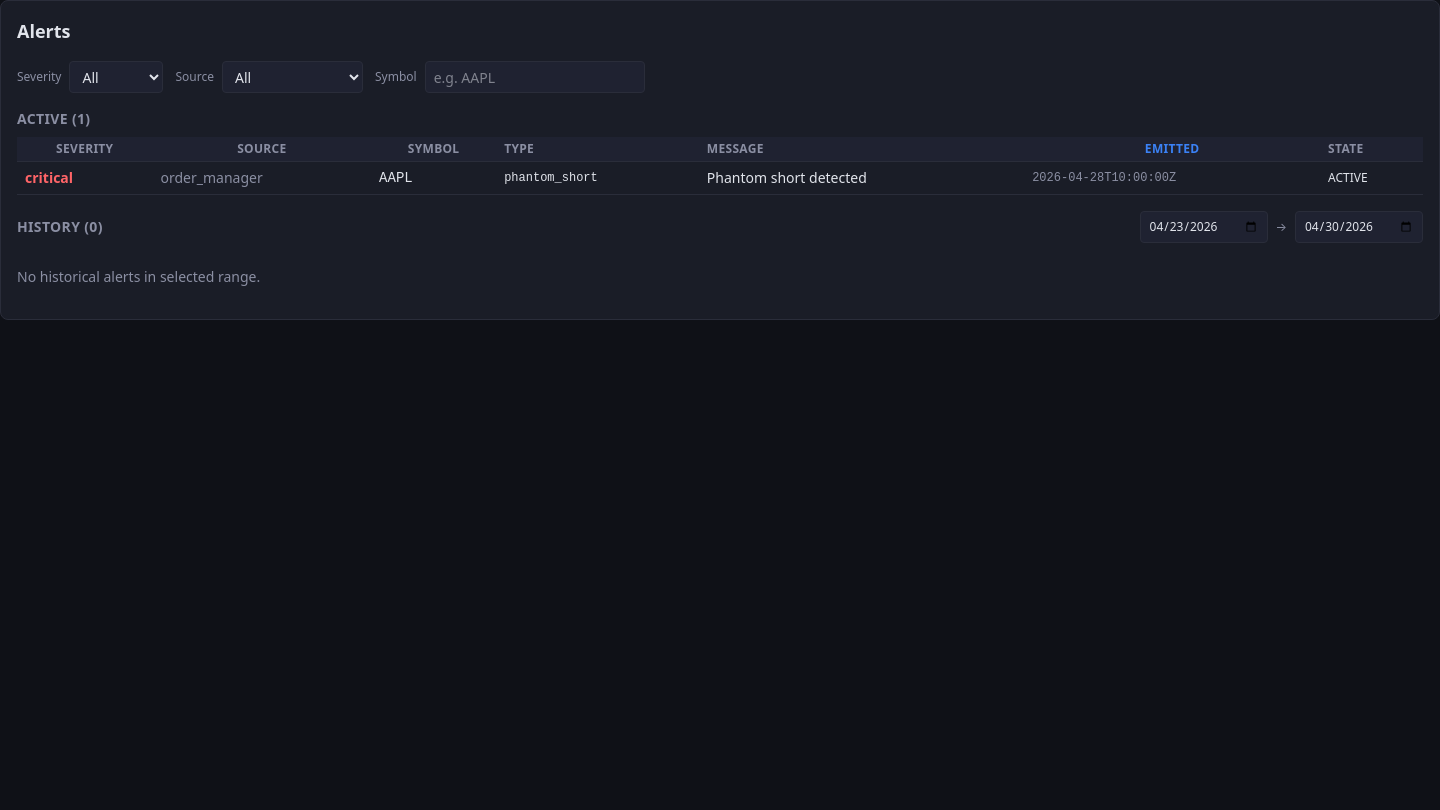
Test: AlertsPanel › closes the detail view when Close is clicked
The image size is (1440, 810).
Click the button with test id "alerts-table-active-row-close-me".
click(720, 178)  # box [17,162,1423,194]
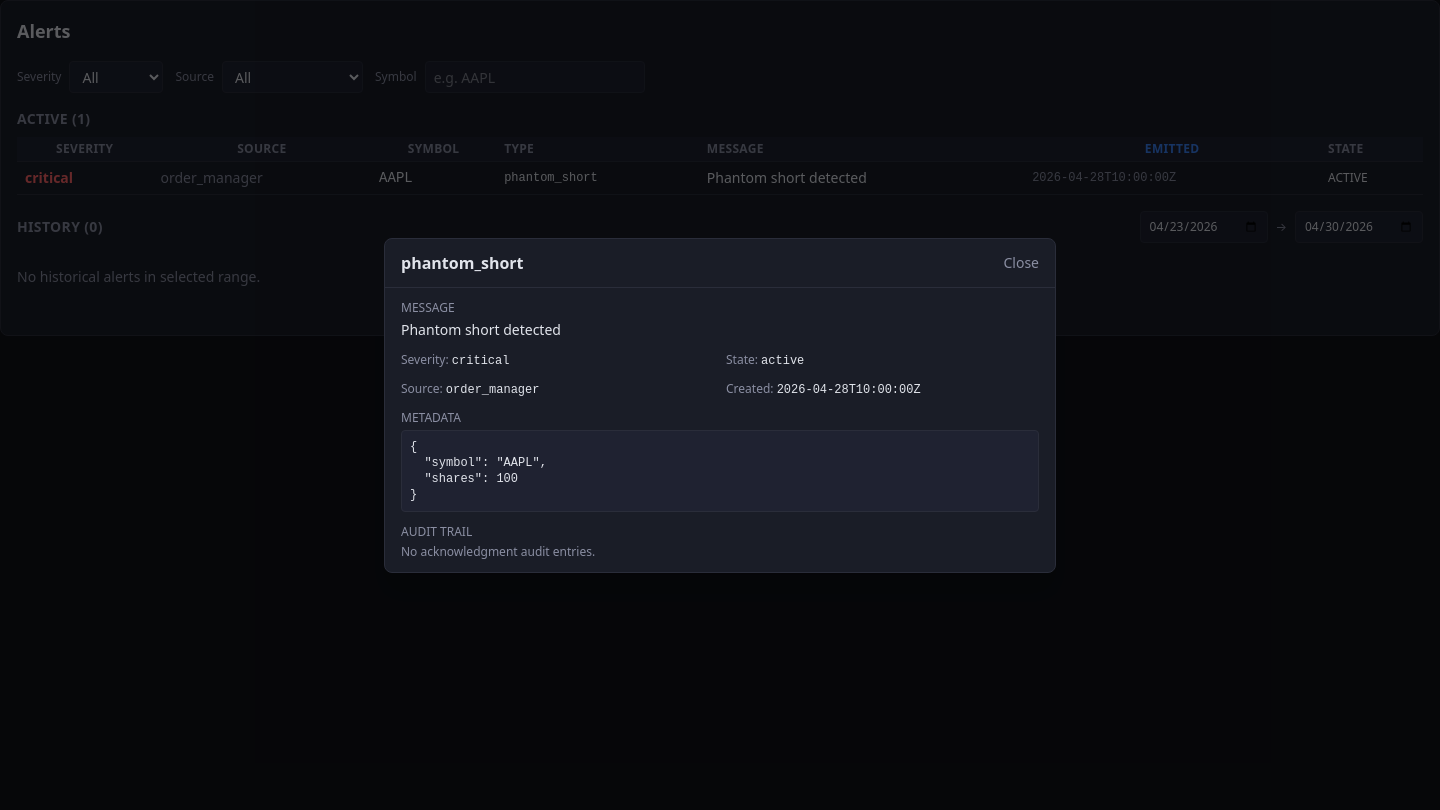
Expected: the dialog with test id "alert-detail-view" is shown
Click the button "Close".
click(1021, 262)  # box [1004,252,1039,272]
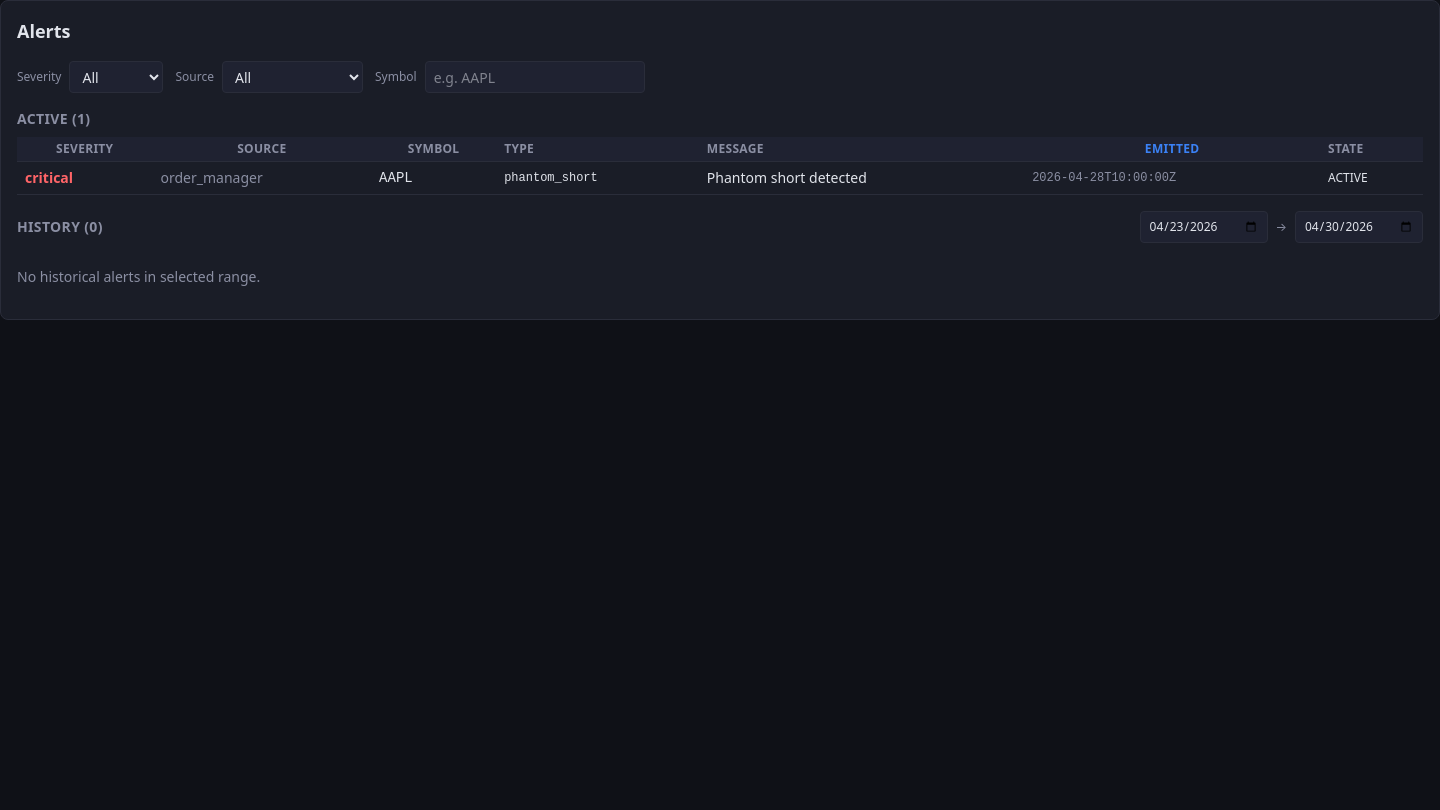
Expected: the dialog with test id "alert-detail-view" is gone
